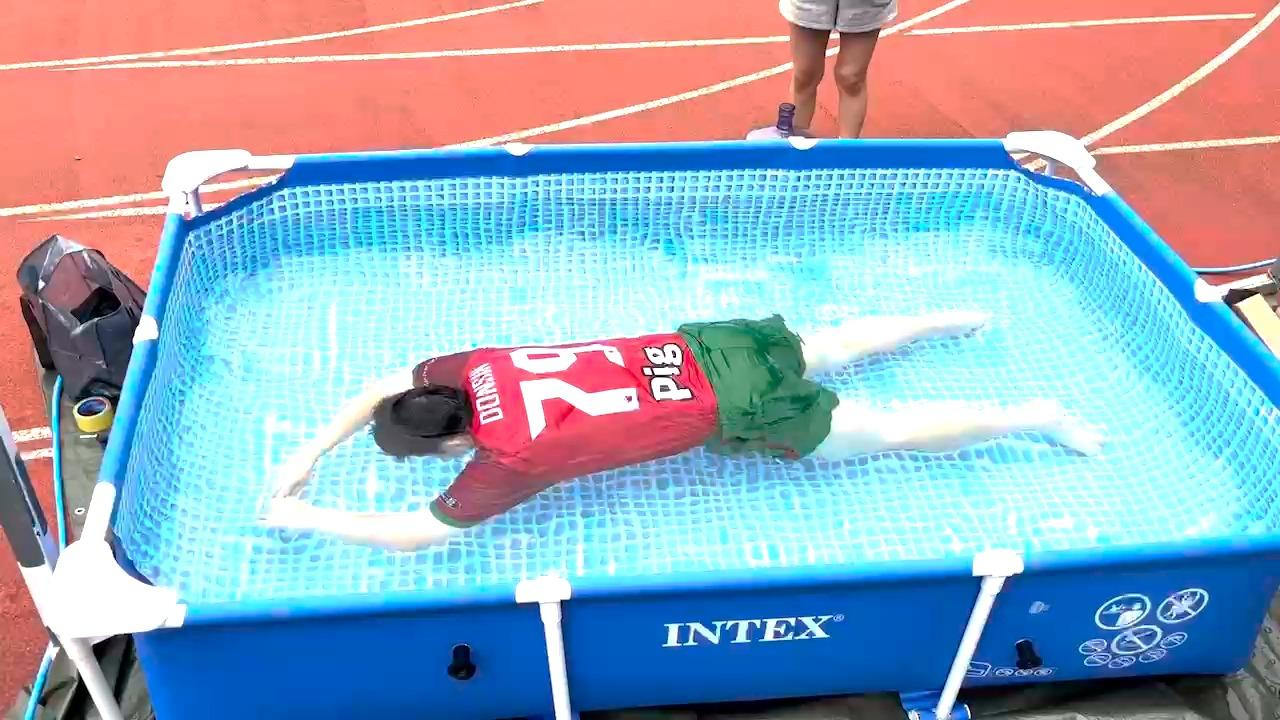Drowning: (206, 309, 1147, 557)
